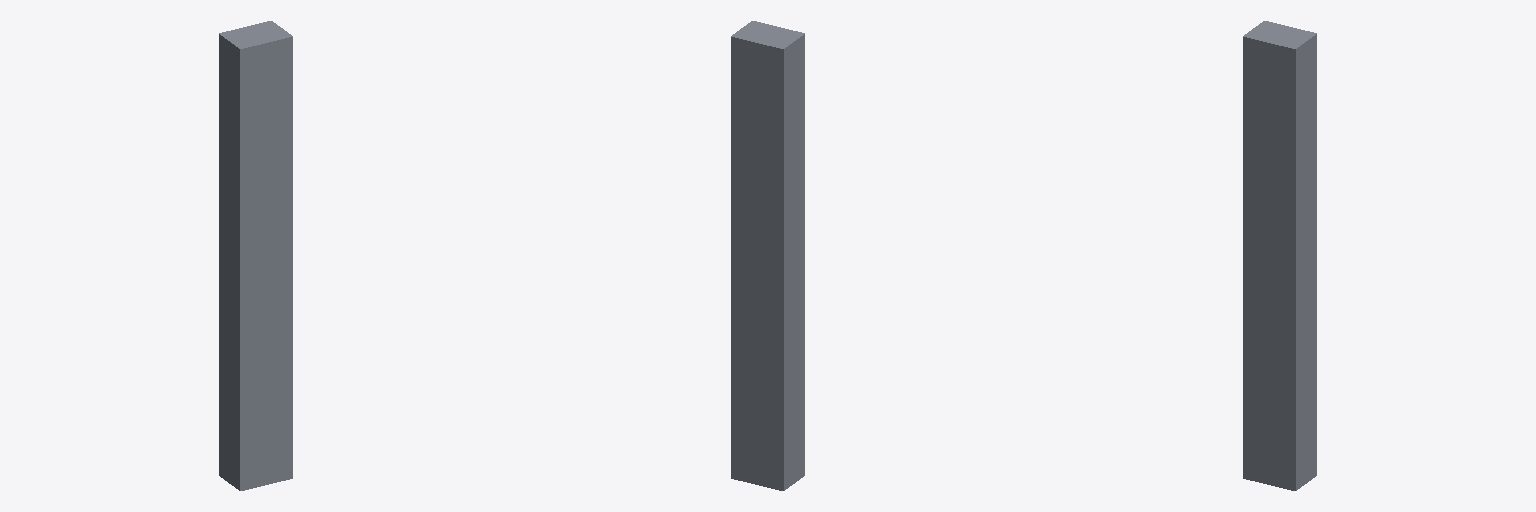
The robot description file, URDF, robot "artmanip_knife_000":
<?xml version='1.0' encoding='utf-8'?>
<robot name="artmanip_knife_000"><link name="link_0"><inertial><mass value="0.03194108277085102" /><inertia ixx="4.987516942715564e-05" iyy="5.025825635964512e-05" izz="1.17870998906614e-06" ixy="0" ixz="0" iyz="0" /></inertial><visual><geometry><box size="0.017128253791124443 0.012225158209720435 0.13633867091508678" /></geometry><material name="link_0_color"><color rgba=".58 .60 .64 1" /></material></visual><collision><geometry><box size="0.017128253791124443 0.012225158209720435 0.13633867091508678" /></geometry></collision></link><link name="link_1"><inertial><mass value="0.006" /><inertia ixx="4.545e-07" iyy="5e-07" izz="5.45e-08" ixy="0" ixz="0" iyz="0" /></inertial><visual><geometry><mesh filename="slider-shoulder.obj" /></geometry><material name="link_1_color"><color rgba=".12 .13 .15 1" /></material></visual><collision><geometry><mesh filename="slider-shoulder.obj" /></geometry></collision></link><joint name="slider" type="prismatic"><parent link="link_0" /><child link="link_1" /><origin xyz="0.00033295844669346906 0.00860467976560619 0.009461747796016204" /><axis xyz="0 0 1" /><limit lower="-0.03267458688196273" upper="0.017325413118037272" effort="100" velocity="1" /><dynamics damping="1000" friction="0.001" /></joint></robot>

--- Render facts (derived) ---
The picture shows the robot from 3 angles, left to right: view 1: azimuth 30°, elevation 25°; view 2: azimuth 150°, elevation 25°; view 3: azimuth 330°, elevation 25°; orthographic projection.
Model artmanip_knife_000 with 2 links and 1 joints (1 prismatic), rooted at link_0, posed every joint at zero.
Visible links, largest first — view 1: link_0; view 2: link_0; view 3: link_0.
Boxes of the visible links, box(x1,y1,x2,y2) form: link_0: box(219, 21, 292, 490); link_0: box(731, 21, 804, 490); link_0: box(1243, 21, 1316, 490).
Bounding box of the posed robot: 0.0171 × 0.0122 × 0.1363 m (x, y, z).
0 mesh visuals loaded from 1 distinct referenced files (none loaded); not drawn: 1 (reference not matched to a file when rendering).
